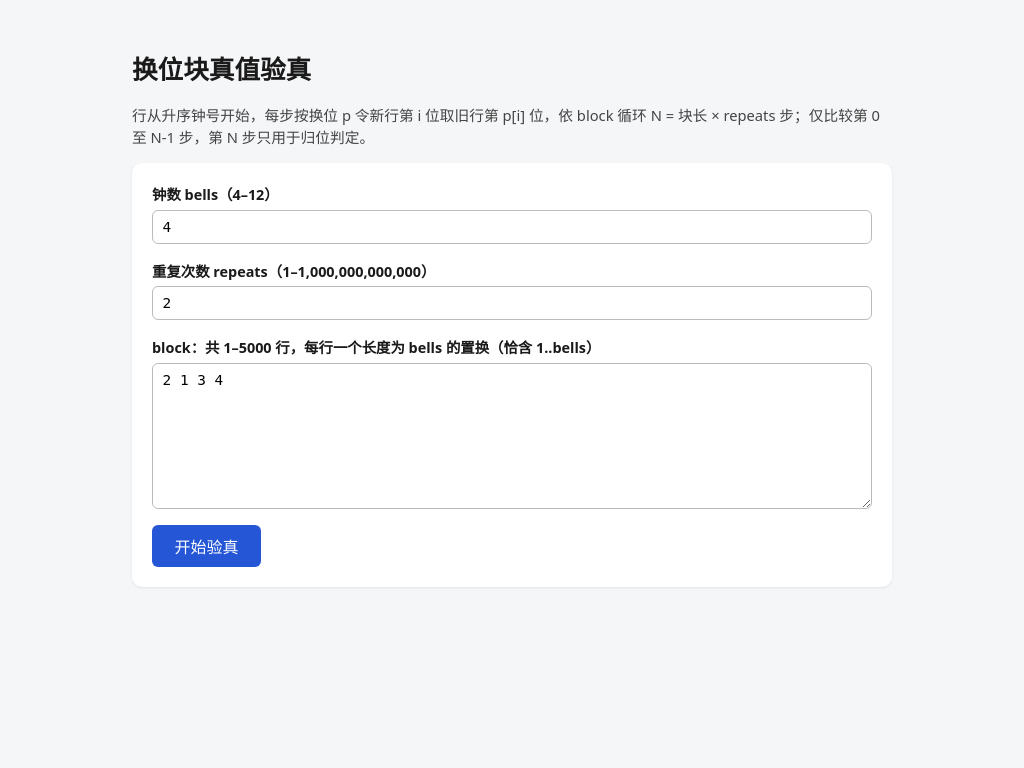
App verification flow › shows canonical not-home failure evidence with the final row only
Click the button "开始验真" at (206, 546), box [152,525,261,566]
(page scrolled)
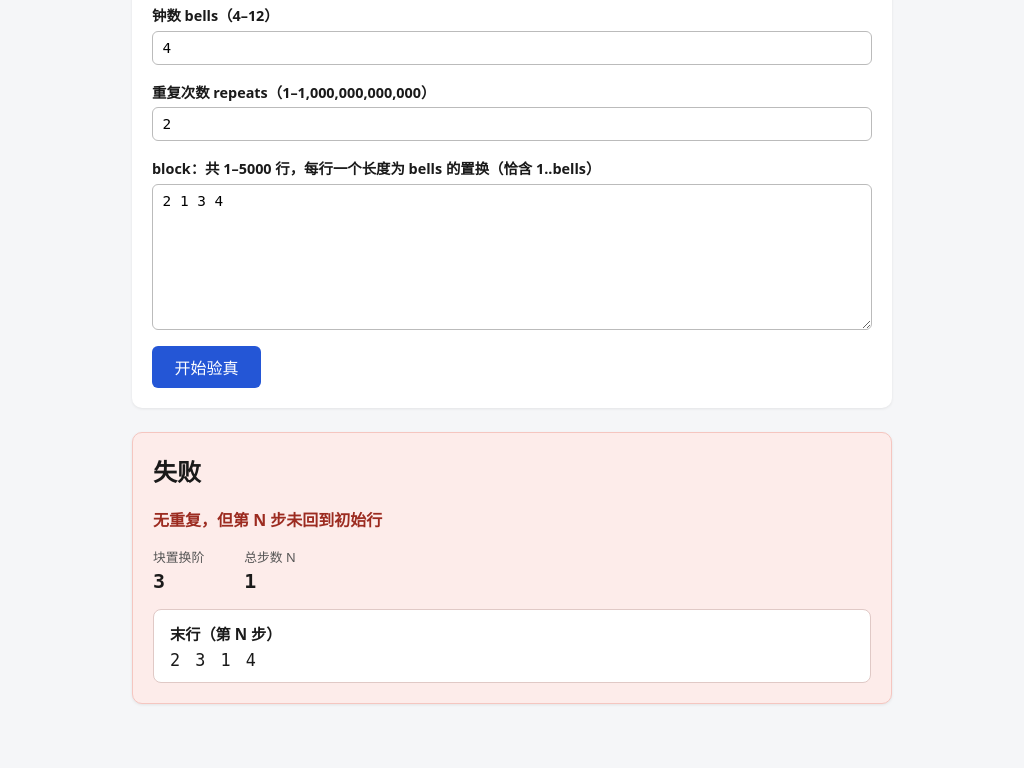
Expected: the element with test id "result-panel" is shown, [132,432,892,704]
Expected: the text with test id "result-outcome" shows "未回到初始行", [153,509,382,531]
Expected: the element with test id "final-row" shows "2 3 1 4", [170,650,258,670]
